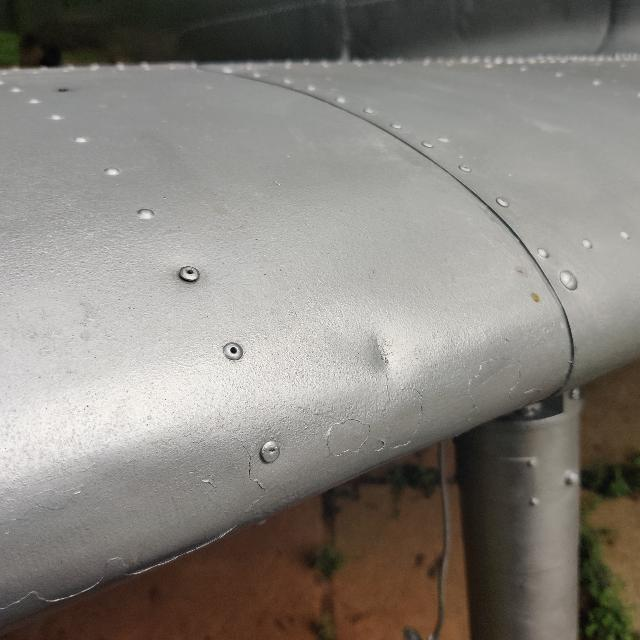dent: (326, 301, 439, 403)
